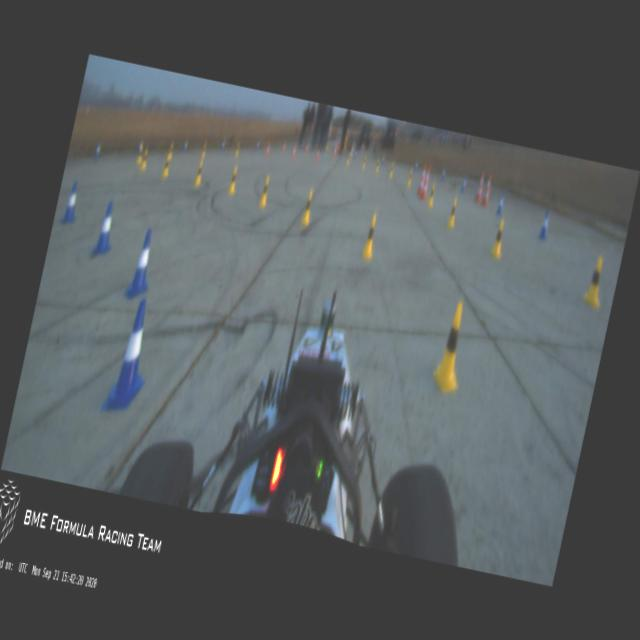blue_cone: (100, 296, 160, 416), (124, 226, 160, 300), (92, 200, 120, 256), (59, 182, 82, 226), (536, 208, 552, 240), (494, 192, 506, 218), (93, 142, 102, 160), (182, 136, 190, 153), (460, 174, 467, 192), (219, 136, 226, 152), (439, 166, 446, 182), (413, 156, 419, 170), (254, 139, 260, 152), (380, 152, 385, 164)
large_orange_cone: (480, 170, 494, 208), (418, 163, 432, 201), (473, 169, 487, 204), (416, 160, 428, 196)
orange_cone: (280, 138, 286, 152), (314, 146, 320, 160), (265, 141, 271, 154), (290, 144, 296, 157), (332, 144, 338, 157), (304, 141, 308, 154)
yellow_cone: (429, 302, 475, 396), (580, 256, 608, 311), (360, 214, 380, 258), (490, 218, 508, 258), (300, 190, 315, 225), (446, 197, 460, 229), (258, 176, 271, 206), (227, 167, 240, 194), (160, 153, 172, 179), (426, 182, 437, 210), (193, 160, 205, 185), (138, 149, 150, 171), (134, 142, 144, 166), (166, 140, 175, 160), (406, 167, 414, 186), (200, 142, 207, 158), (374, 155, 381, 171), (388, 160, 394, 177), (234, 141, 240, 156), (345, 150, 350, 166), (361, 154, 366, 169)
